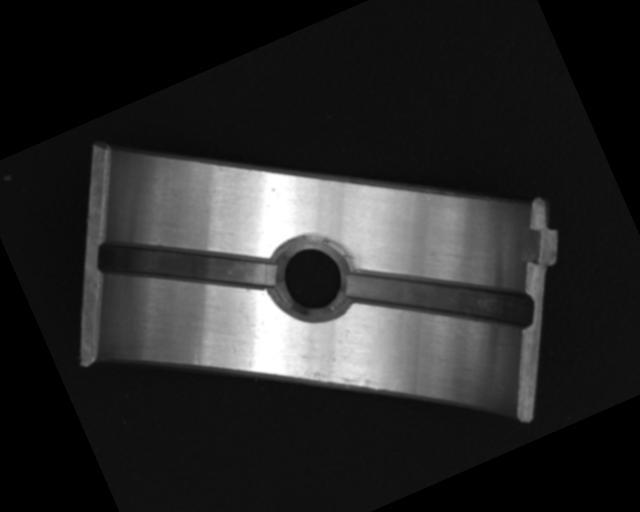gap: (342, 211, 541, 390), (92, 183, 282, 344)
hole: (262, 223, 358, 327)
